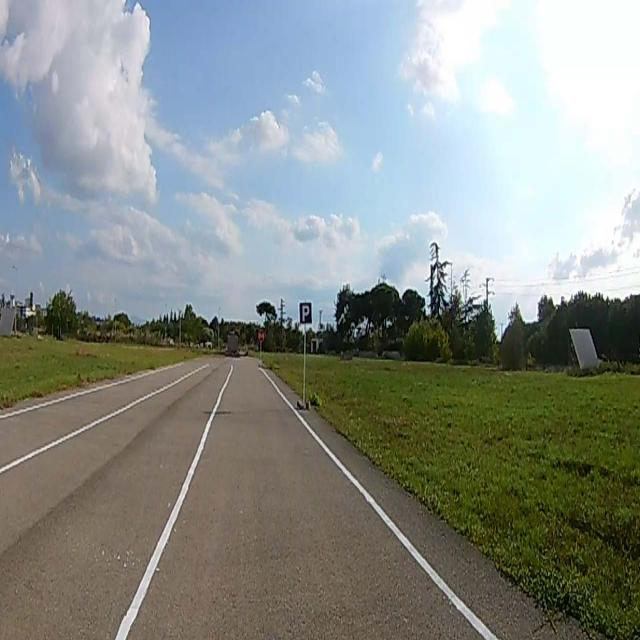park: (298, 300, 312, 324)
